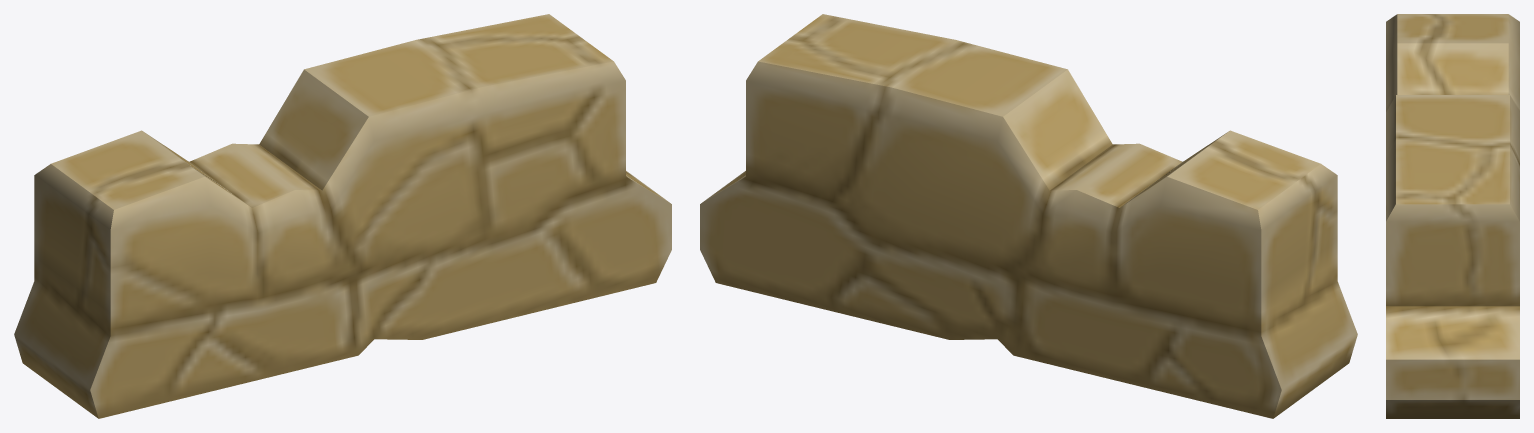
File: Wall2.fbx
3 renders of one model, left to right at view 1: azimuth 30°, elevation 25°; view 2: azimuth 150°, elevation 25°; view 3: azimuth 270°, elevation 25°, orthographic. The views are drawn at different scales.
Parts seen in each view (by area): view 1: pCube25; view 2: pCube25; view 3: pCube25.
Part boxes in pixels (left/top/right/bottom): pCube25: left=14, top=14, right=671, bottom=418; pCube25: left=700, top=14, right=1357, bottom=418; pCube25: left=1386, top=14, right=1519, bottom=418.
Size of the model in its own units: 2.33 by 0.8927 by 0.5286.
